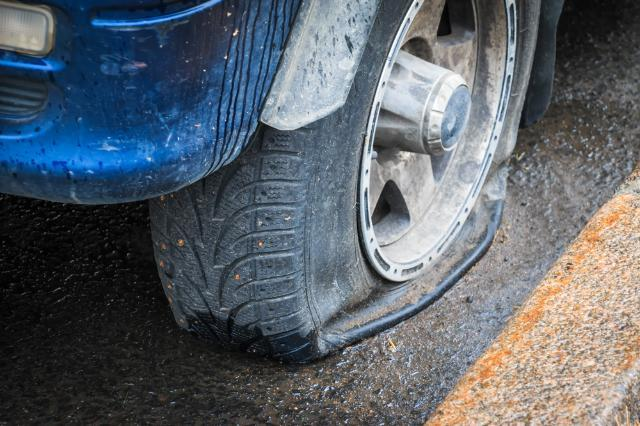tire flat: (149, 0, 541, 358)
